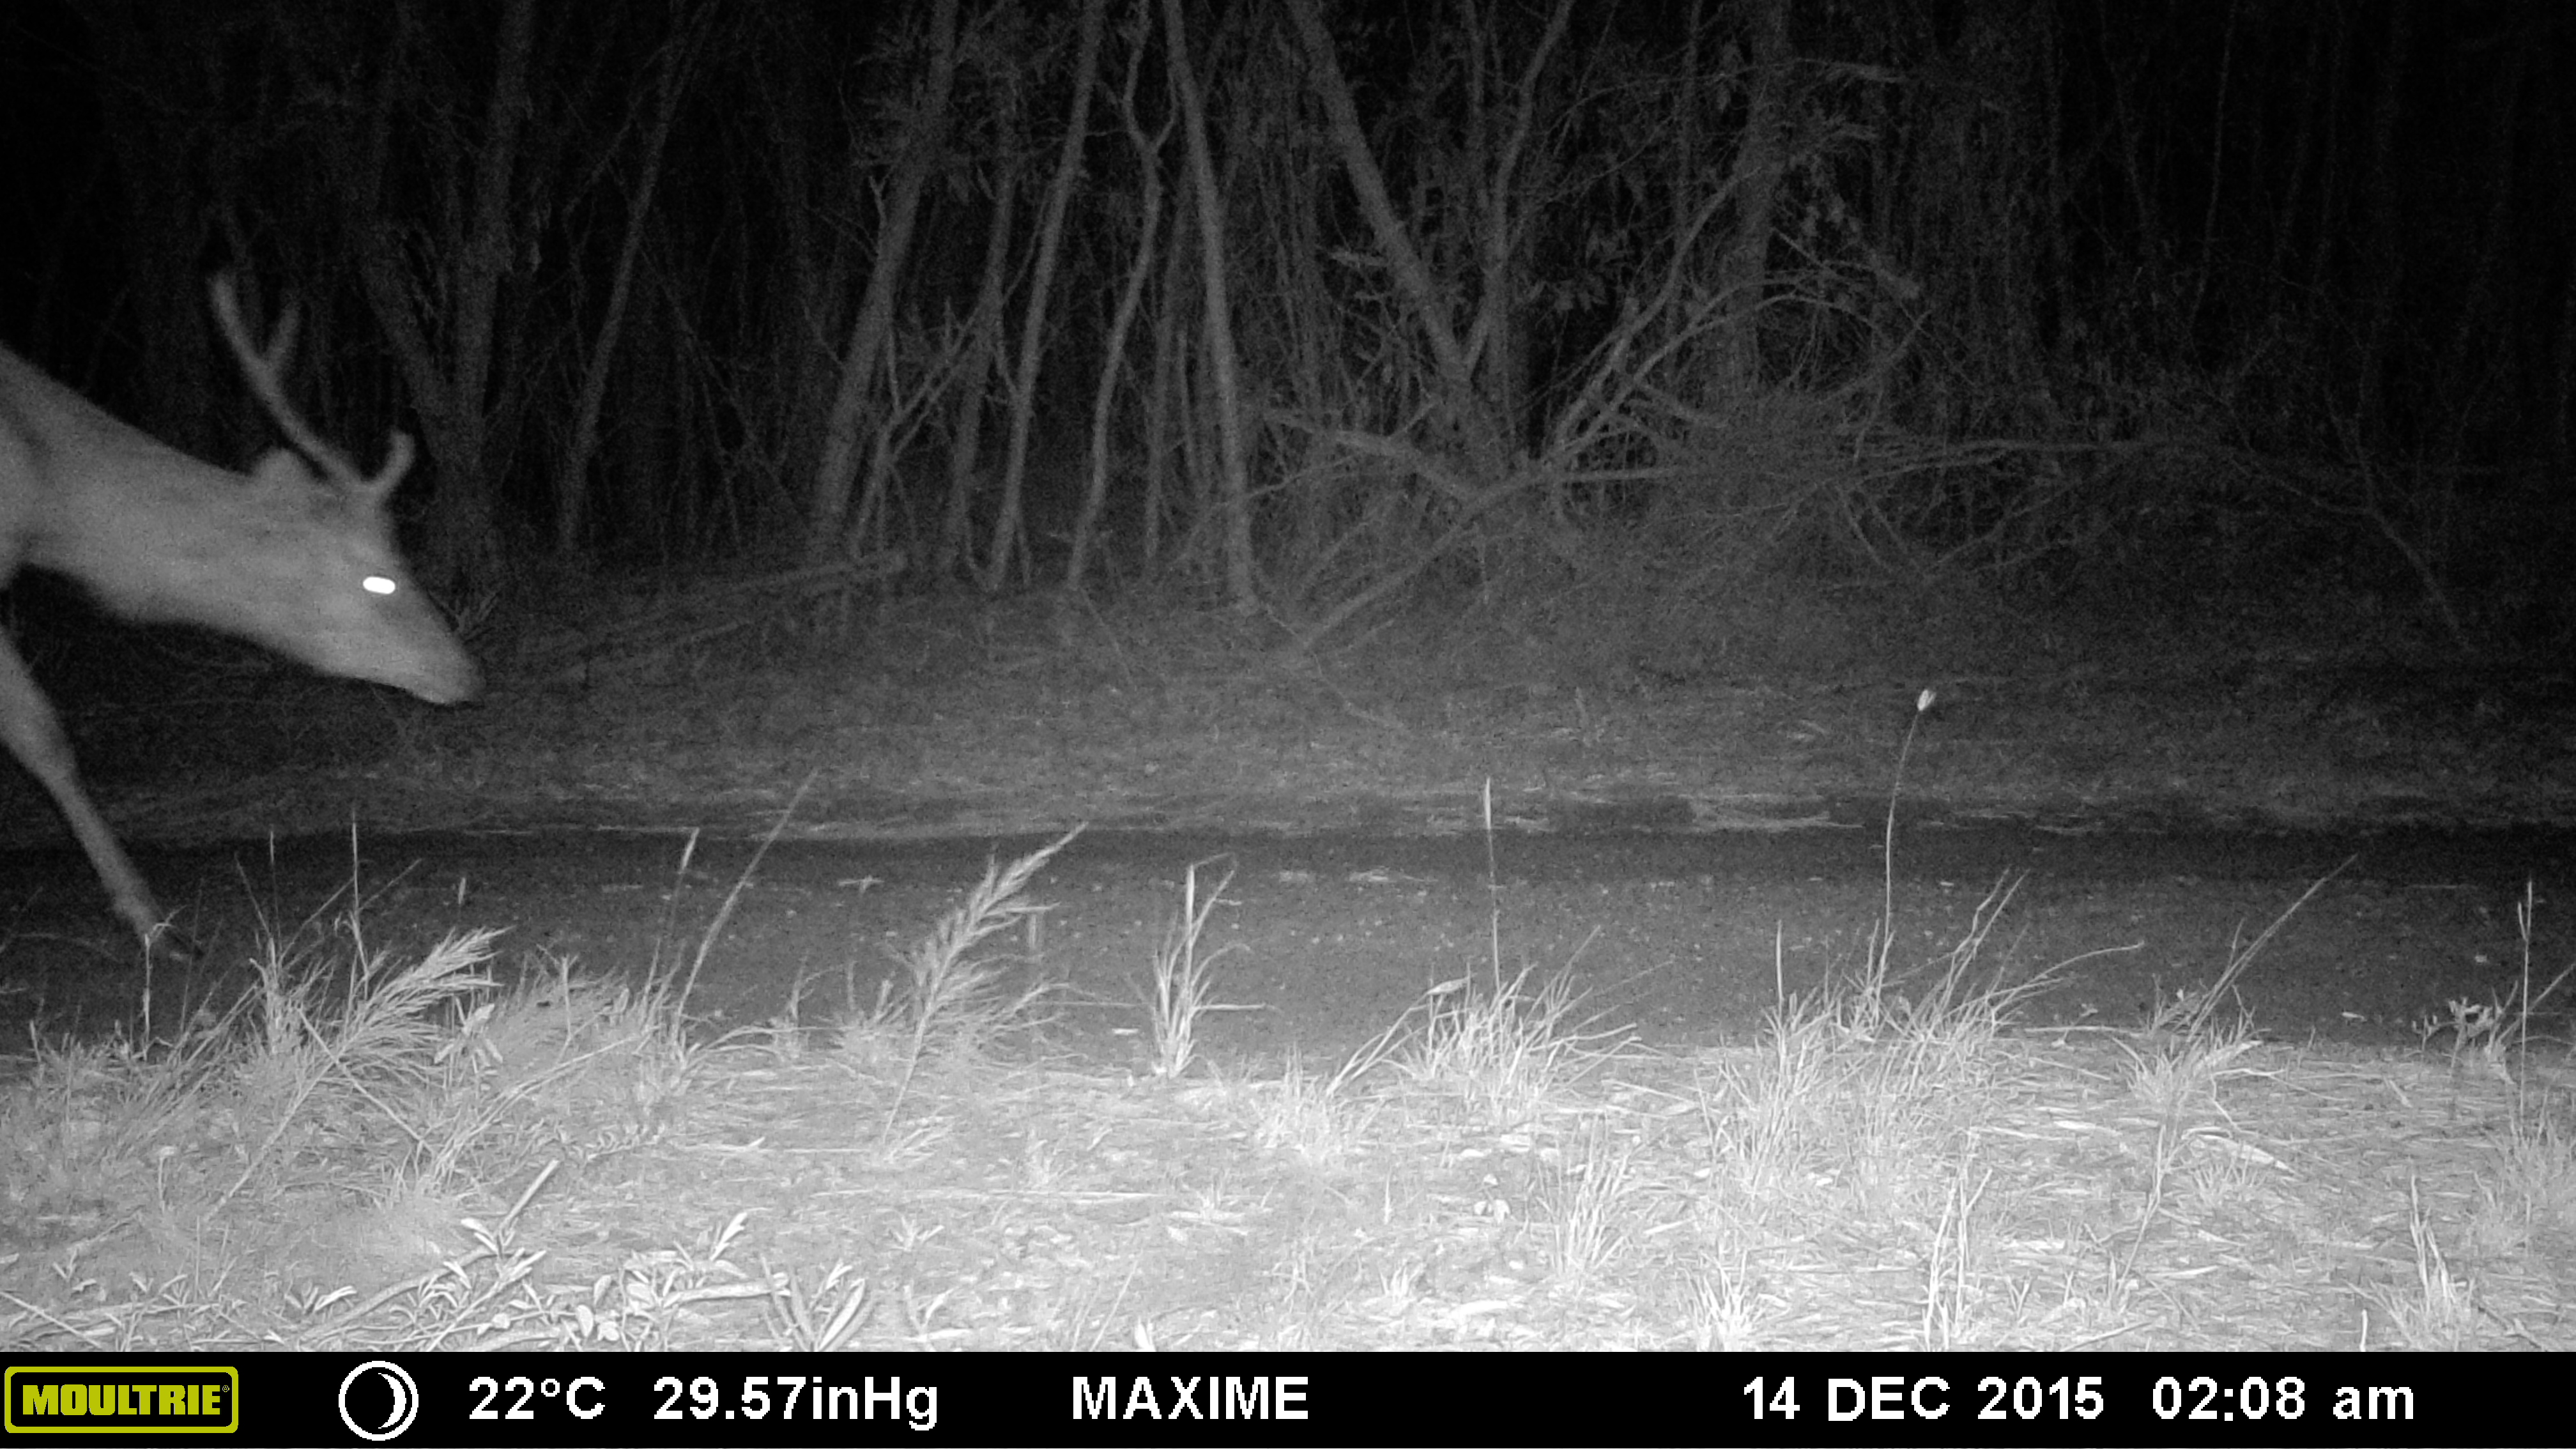Deer: (2, 265, 488, 985)
